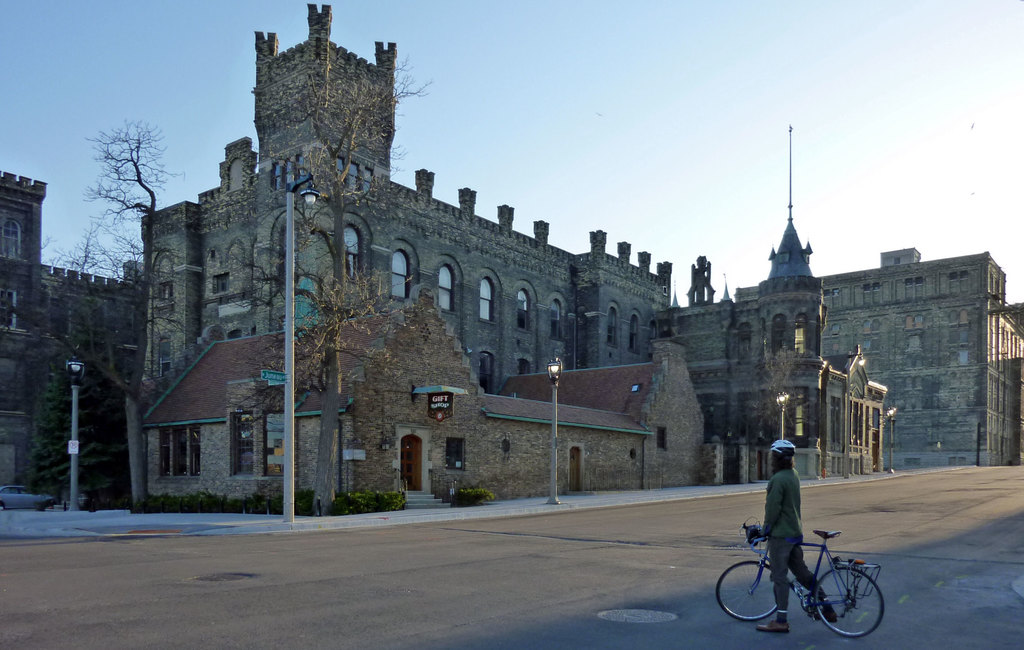Bicycle: (716, 514, 886, 640)
